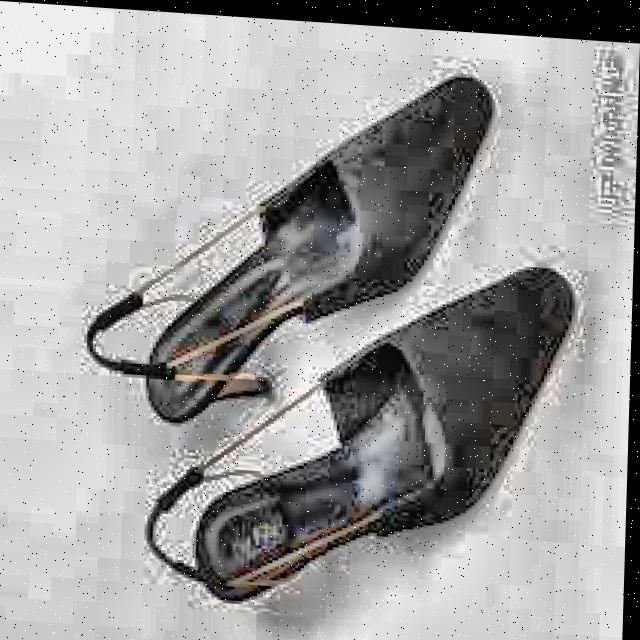shoes: (59, 13, 595, 640)
